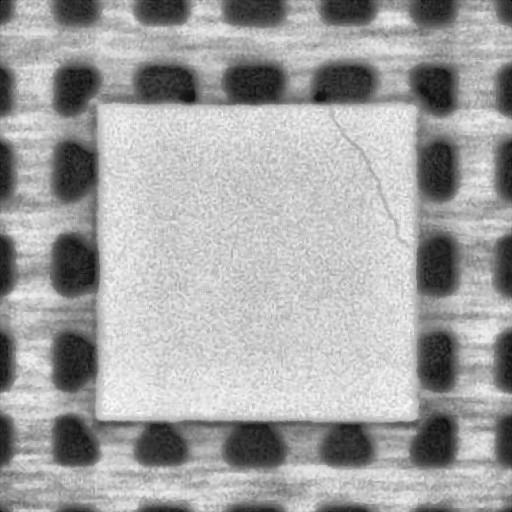DIE_CRACK: (326, 104, 408, 245)
